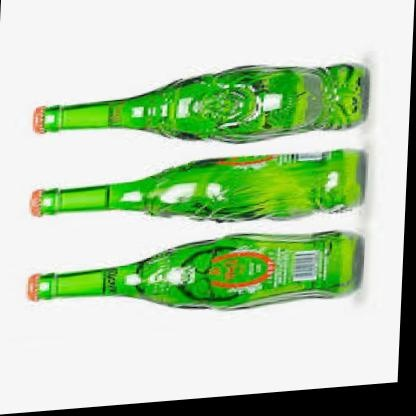trash: (33, 64, 368, 141), (28, 231, 362, 307), (31, 150, 365, 220)
